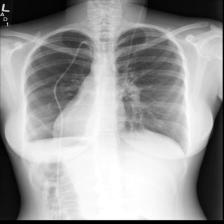normal: (19, 24, 194, 155)
